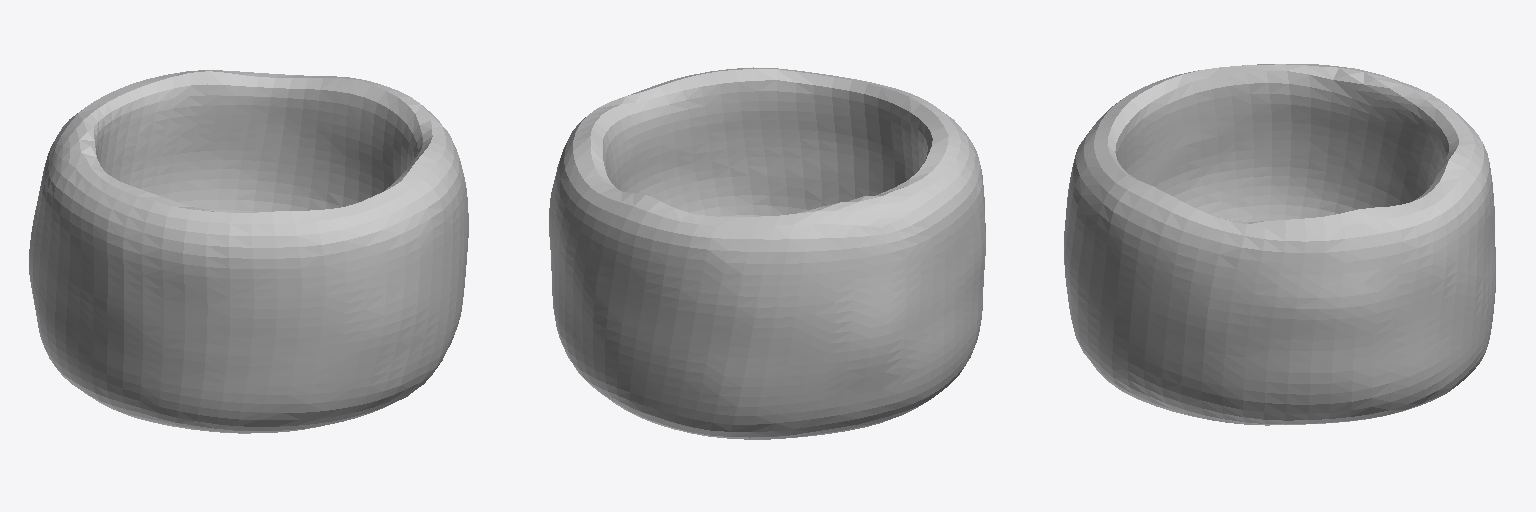
The model's file is bol_step_3.obj.
3 views of the same model, side by side, from view 1: azimuth 30°, elevation 25°; view 2: azimuth 150°, elevation 25°; view 3: azimuth 270°, elevation 25° (orthographic).
Parts seen in each view (by area): view 1: Mesh.003; view 2: Mesh.003; view 3: Mesh.003.
Part boxes in pixels (x1,y1,x2,y2): Mesh.003: (29,70,468,433); Mesh.003: (549,67,985,439); Mesh.003: (1064,64,1495,425).
Bounding box in the file's own units: 2.9 × 1.74 × 2.88.